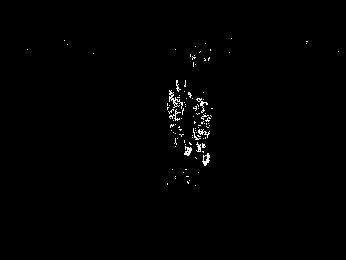person: (165, 77, 196, 157), (192, 97, 213, 167)
